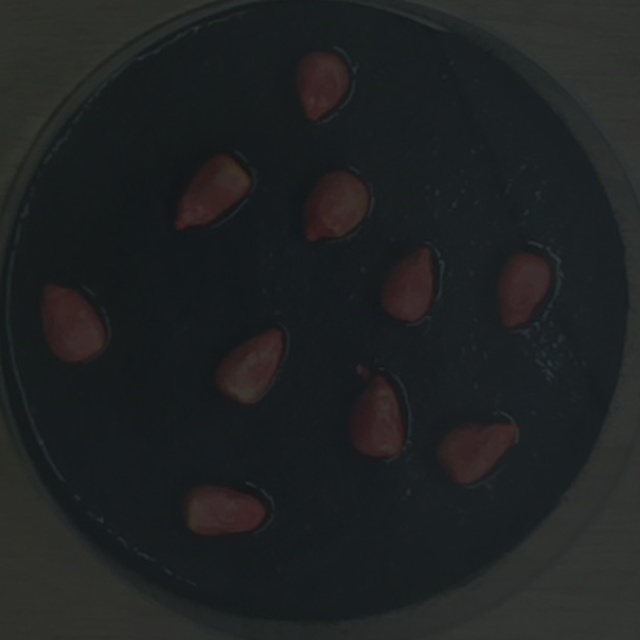Zea mays: (168, 142, 259, 240), (427, 409, 525, 494), (206, 318, 291, 413), (31, 271, 113, 368), (294, 159, 378, 251), (339, 360, 410, 466), (173, 473, 275, 542), (489, 241, 558, 338), (286, 41, 360, 131), (370, 237, 440, 330)
